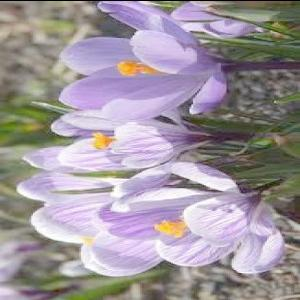Saffron: (60, 0, 237, 116), (98, 162, 284, 270), (58, 98, 218, 196)
